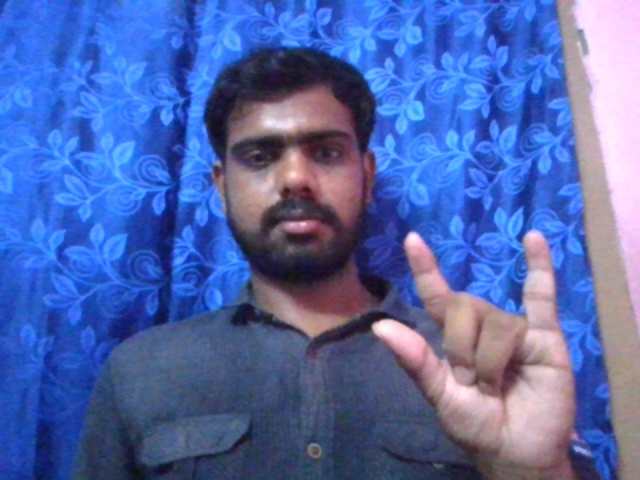IloveYou: (364, 226, 576, 463)
